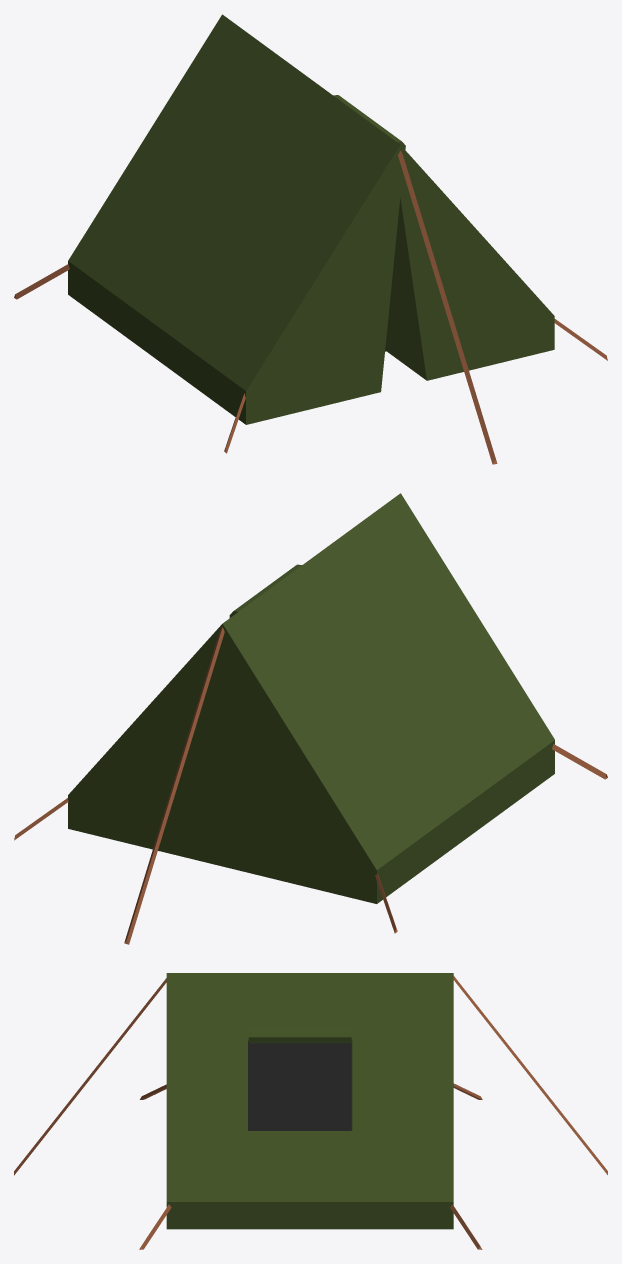
The model's file is Tent_mat.fbx.
3 views of the same model, one above another, from view 1: azimuth 30°, elevation 25°; view 2: azimuth 150°, elevation 25°; view 3: azimuth 270°, elevation 25° (orthographic). The views are drawn at different scales.
Parts seen in each view (by area): view 1: Tent_mat; view 2: Tent_mat; view 3: Tent_mat.
Part boxes in pixels (x1=…): Tent_mat: x1=14, y1=14, x2=607, y2=464; Tent_mat: x1=14, y1=493, x2=607, y2=944; Tent_mat: x1=14, y1=973, x2=607, y2=1249.
Bounding box in the file's own units: 208 × 131 × 349.
